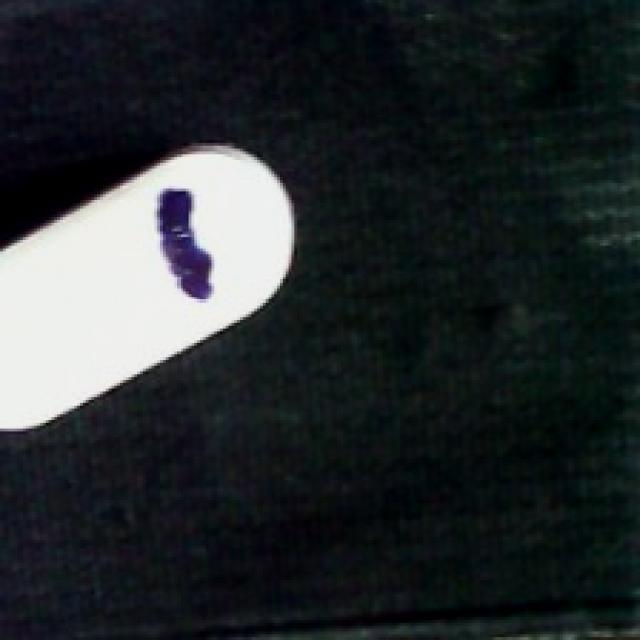defected: (0, 137, 303, 436)
